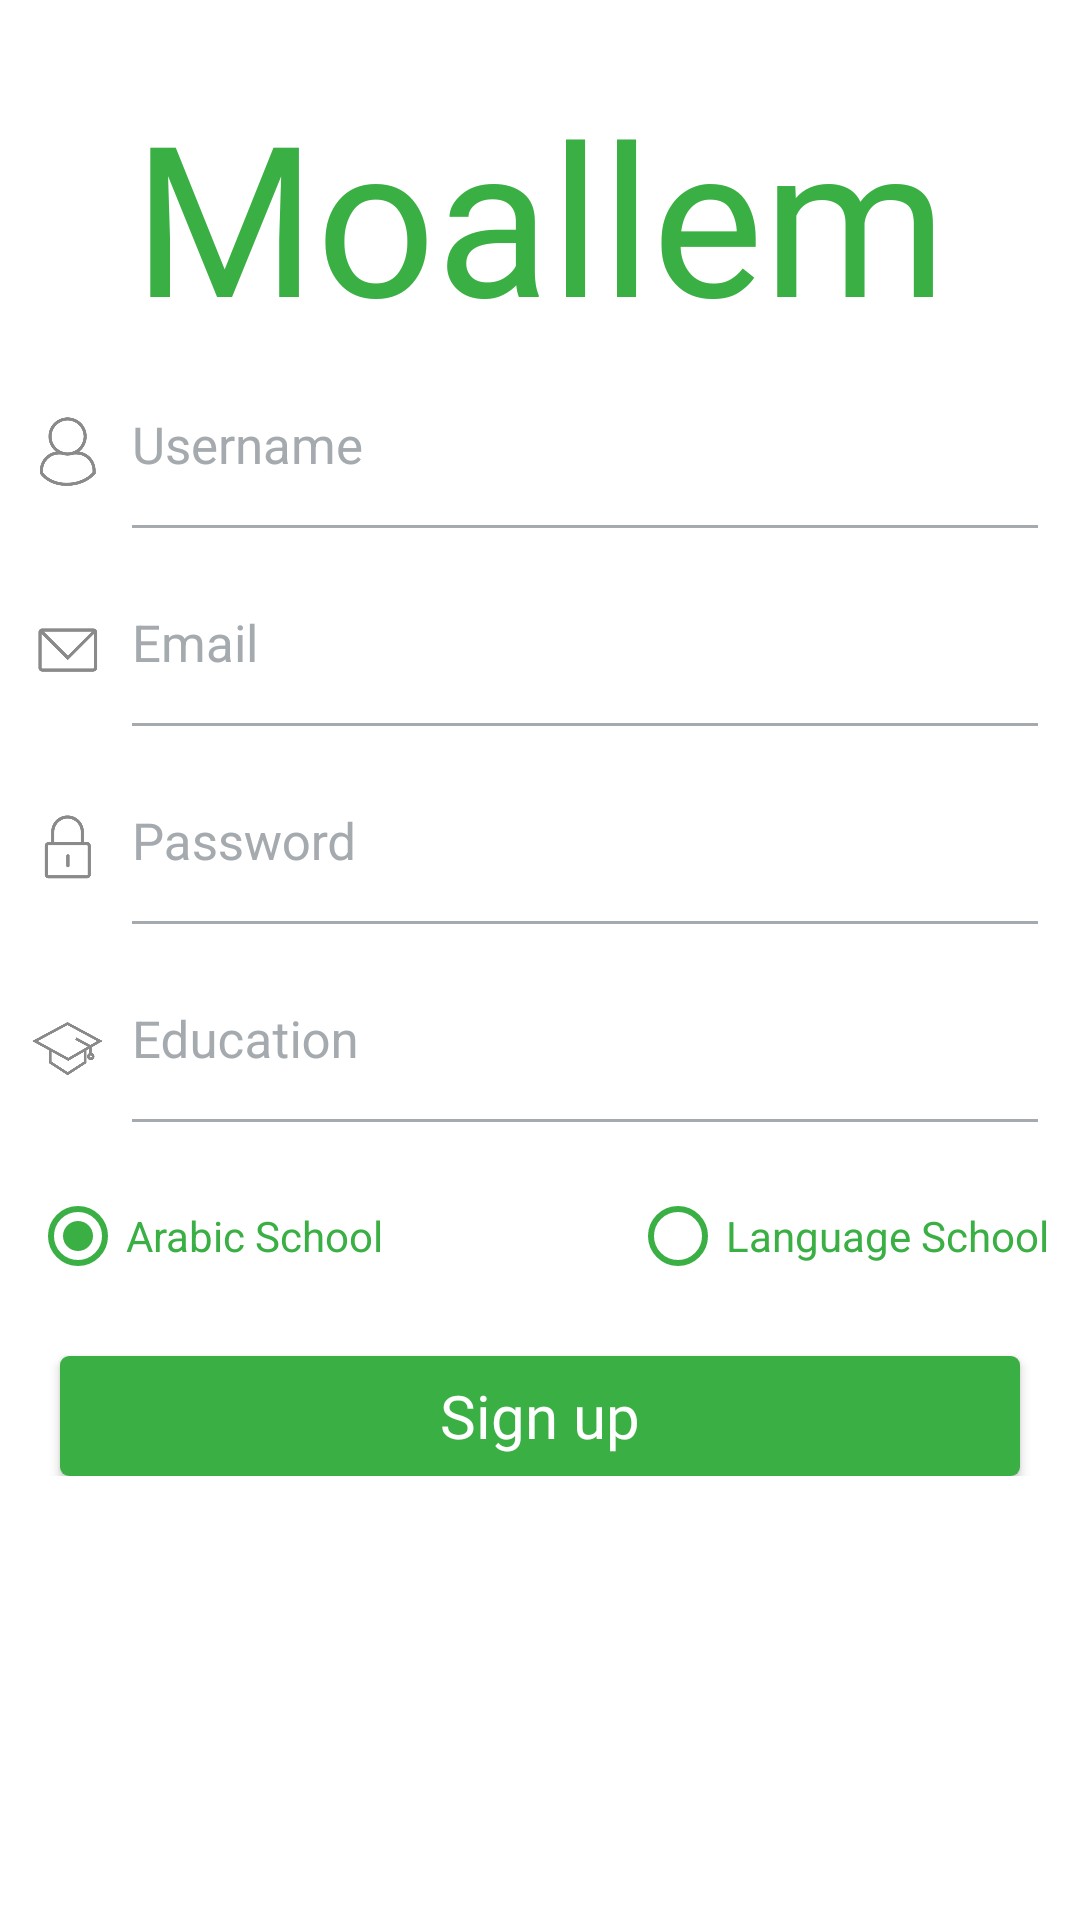

Screen size 1080 x 1920. Icon name, then its box in pixels as [x1,y1,x2,y2]:
graduation: [33,1022,102,1075]
lockicon: [45,815,91,879]
profileicon: [40,417,96,486]
